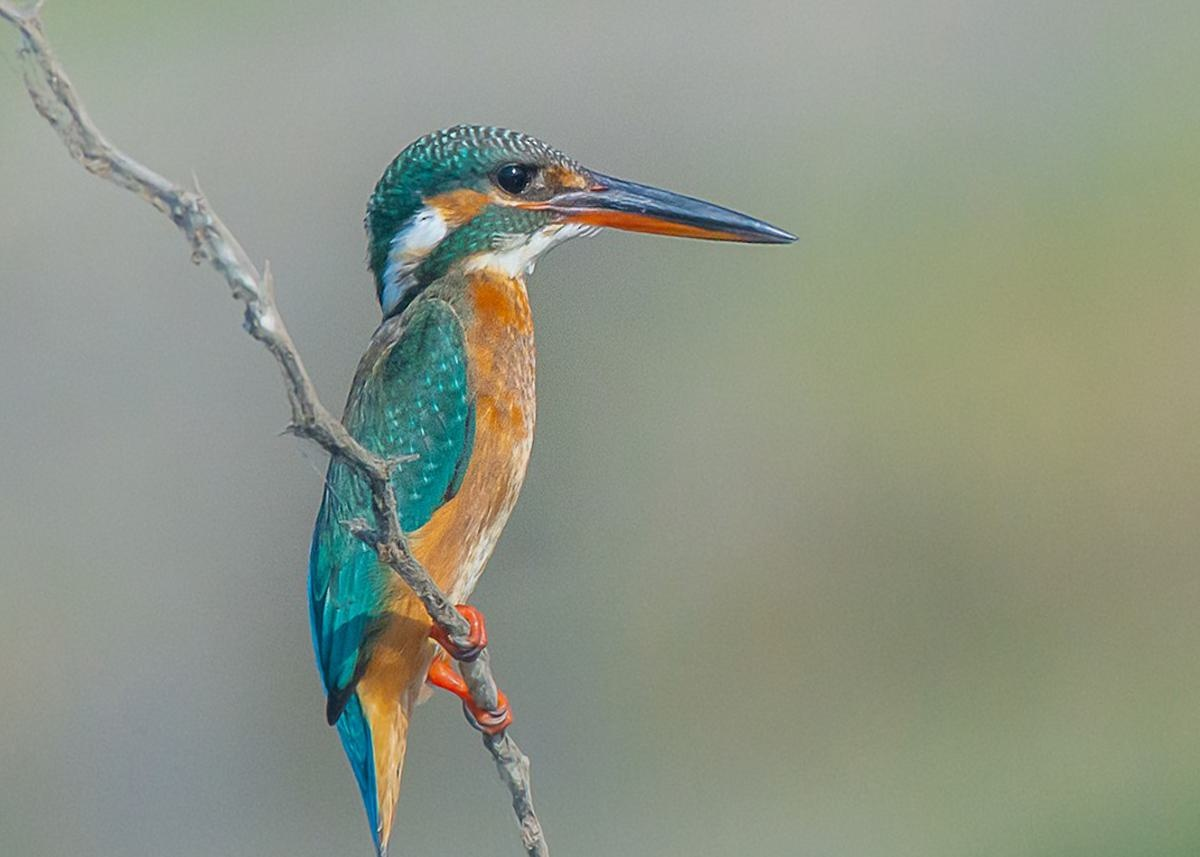kingfisher: (315, 120, 805, 819)
